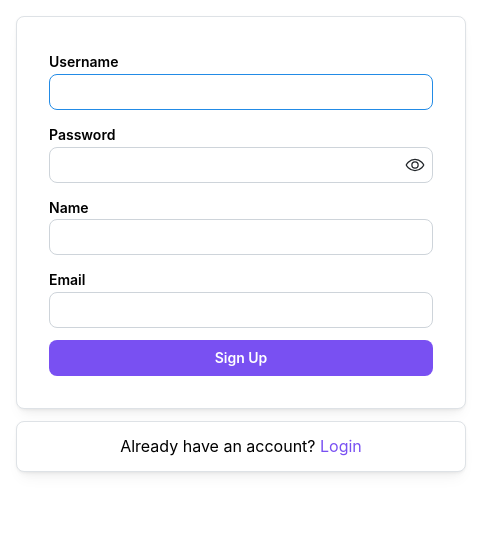
Signup › shows conflict message on 409 response
This screenshot has width=483, height=557.
Step 1. Type "alice" into the field labelled "Username" → (241, 92), box [49,74,433,110]
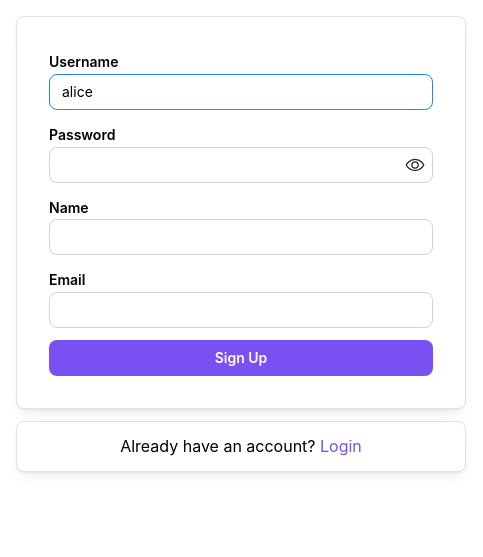
Step 2. Type "secret" into the password field labelled "Password" → (241, 165), box [50,148,432,182]
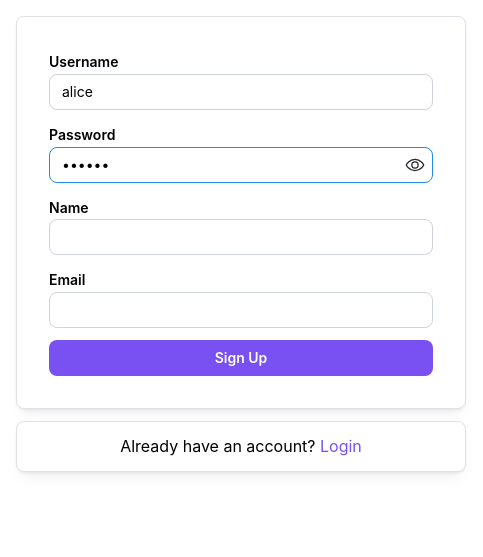
Step 3. Type "Alice" into the field labelled "Name" → (241, 237), box [49,219,433,255]
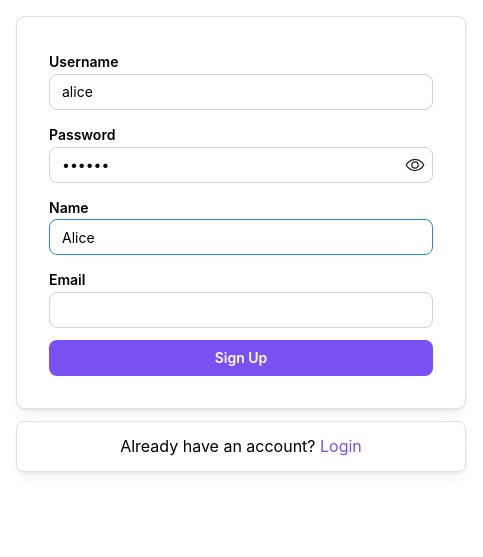
Step 4. Type "alice@example.com" into the field labelled "Email" → (241, 310), box [49,292,433,328]
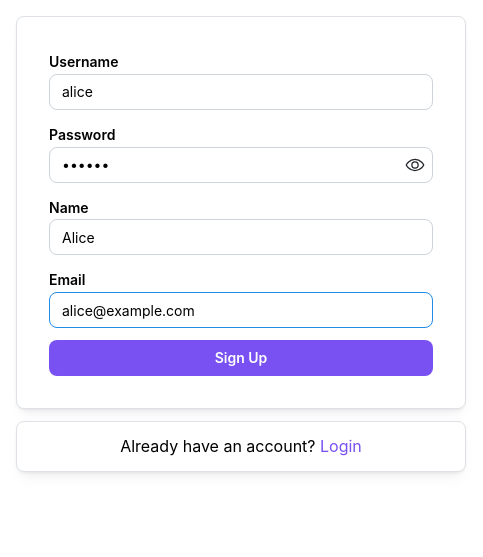
Step 5. Click the button "Sign Up" → (241, 358), box [49,340,433,376]
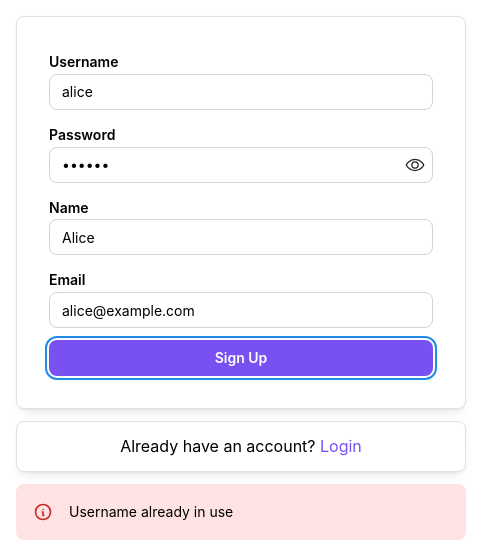
Result: the text "Username already in use" is shown at [69,503,233,520]
